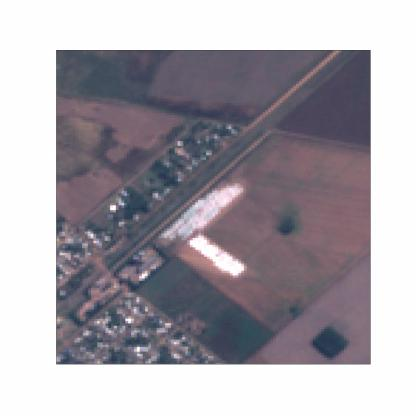silobolsa: (166, 182, 242, 242), (194, 234, 245, 276)
